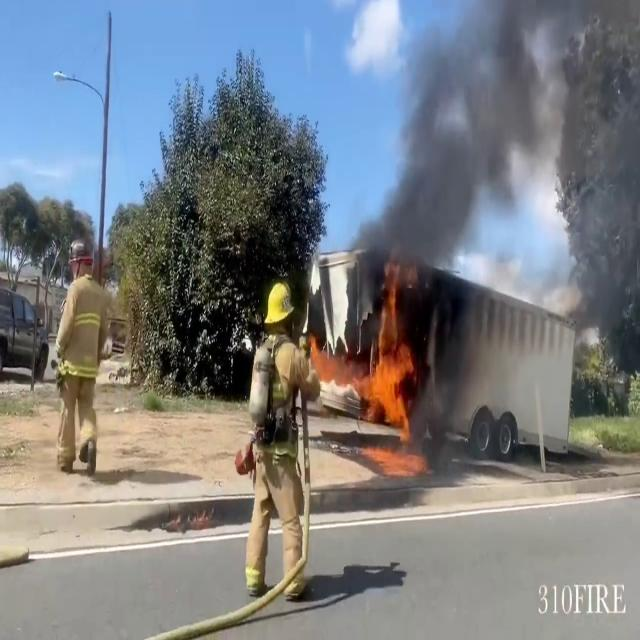Fire: (348, 285, 420, 451)
Smoke: (354, 0, 550, 282)
